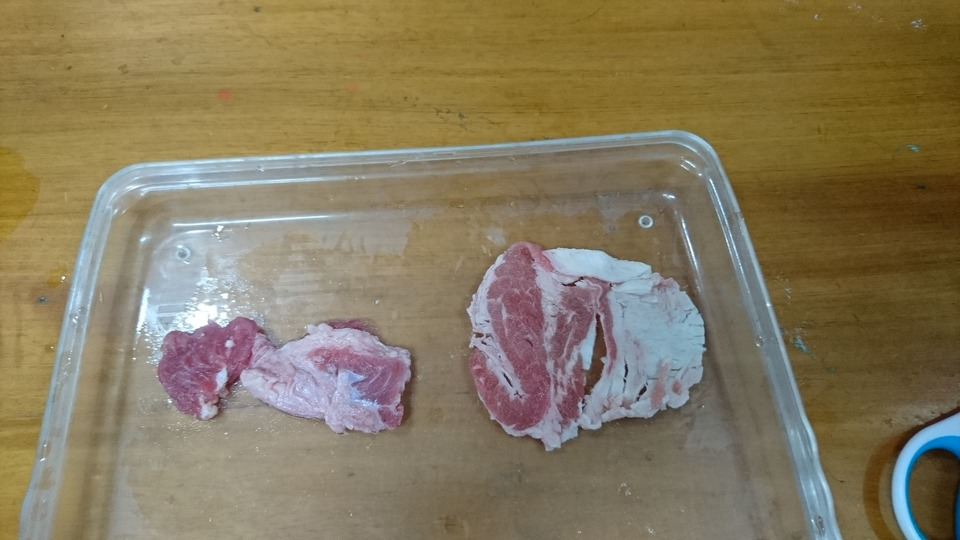restructured meat: (464, 240, 707, 455), (162, 316, 414, 436)
